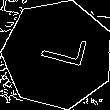L_W: (28, 33, 86, 76)
